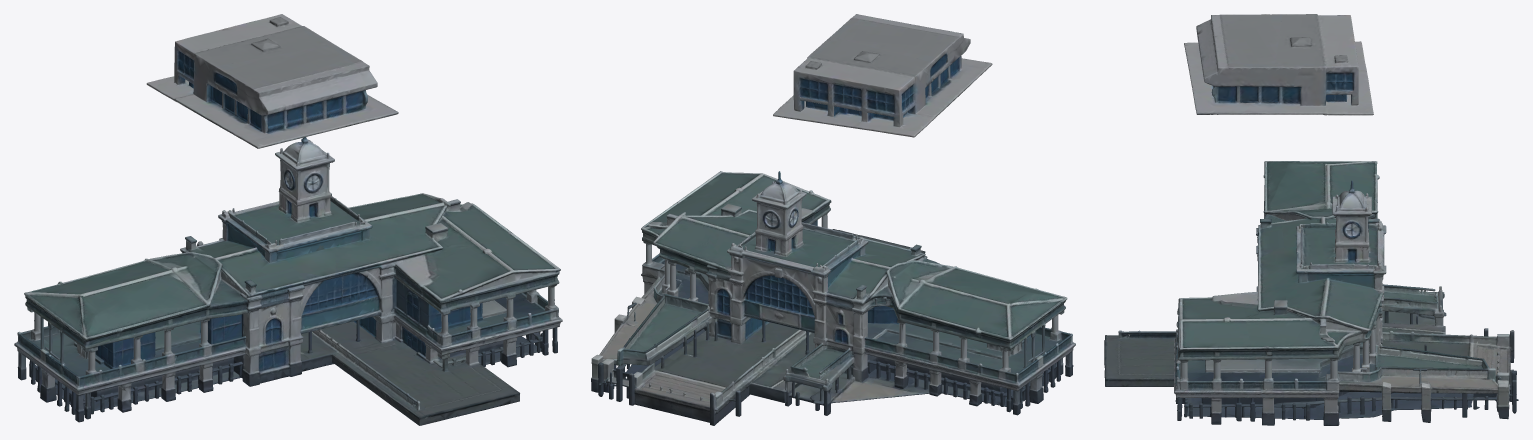
File: central-pier.glb
3 views of the same model, side by side, from view 1: azimuth 30°, elevation 25°; view 2: azimuth 150°, elevation 25°; view 3: azimuth 270°, elevation 25° (orthographic). The views are drawn at different scales.
Visible parts, largest first — view 1: tripo_node_f8a4cd4f-8238-4cea-9689-fa0a950009dc; view 2: tripo_node_f8a4cd4f-8238-4cea-9689-fa0a950009dc; view 3: tripo_node_f8a4cd4f-8238-4cea-9689-fa0a950009dc.
Part boxes in pixels (left/top/right/bottom): tripo_node_f8a4cd4f-8238-4cea-9689-fa0a950009dc: left=14, top=14, right=562, bottom=425; tripo_node_f8a4cd4f-8238-4cea-9689-fa0a950009dc: left=591, top=14, right=1075, bottom=425; tripo_node_f8a4cd4f-8238-4cea-9689-fa0a950009dc: left=1104, top=14, right=1518, bottom=425.
Bounding box in the file's own units: 1 × 0.7299 × 0.9117.
Materials: 1 (1 with a texture image).
